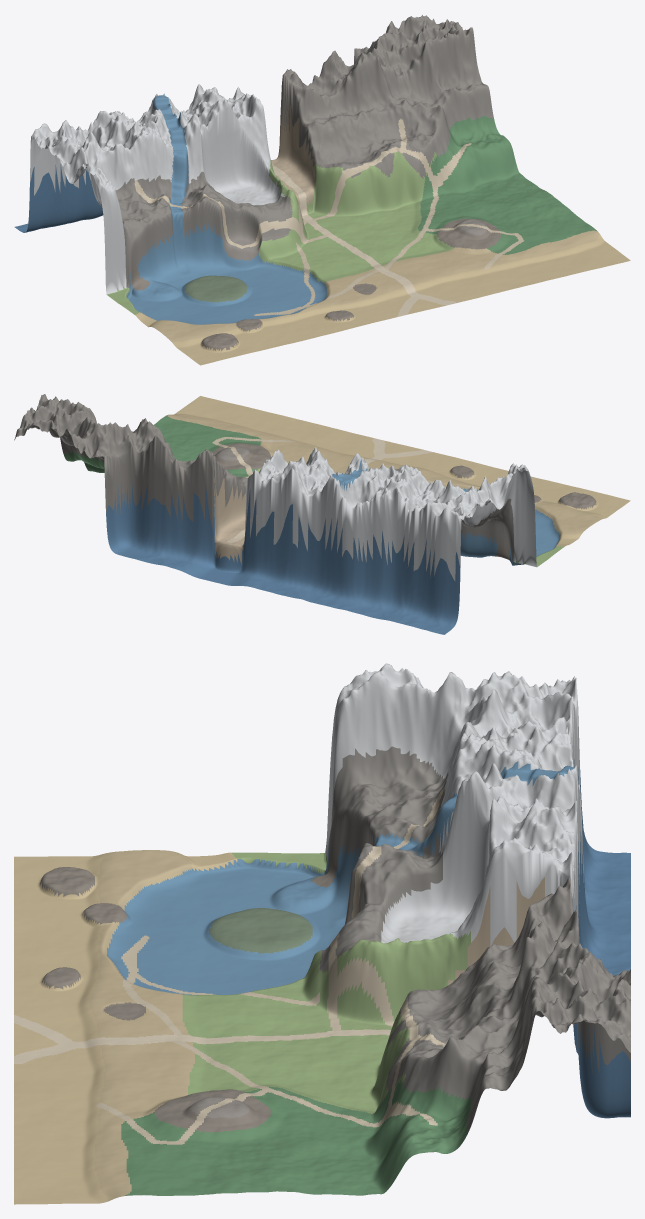
Rendered from alpha-map.glb.
3 views of the same model, one above another, from view 1: azimuth 30°, elevation 25°; view 2: azimuth 150°, elevation 25°; view 3: azimuth 270°, elevation 25° (orthographic). The views are drawn at different scales.
Visible parts, largest first — view 1: vis_ground; view 2: vis_ground; view 3: vis_ground.
Part boxes in pixels (bbox=[...]): vis_ground: bbox=[14, 15, 630, 365]; vis_ground: bbox=[14, 394, 630, 634]; vis_ground: bbox=[14, 663, 630, 1204].
Bounding box in the file's own units: 1872 × 507 × 1404.
